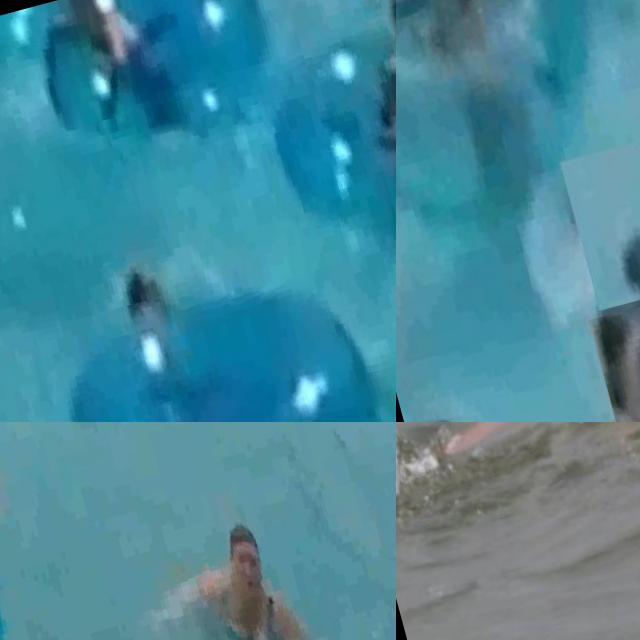drowning: (104, 449, 366, 640), (396, 422, 640, 515), (76, 188, 216, 344), (559, 115, 640, 311)
swimming: (296, 0, 396, 217), (396, 0, 539, 128), (589, 300, 640, 422), (402, 392, 519, 422)
